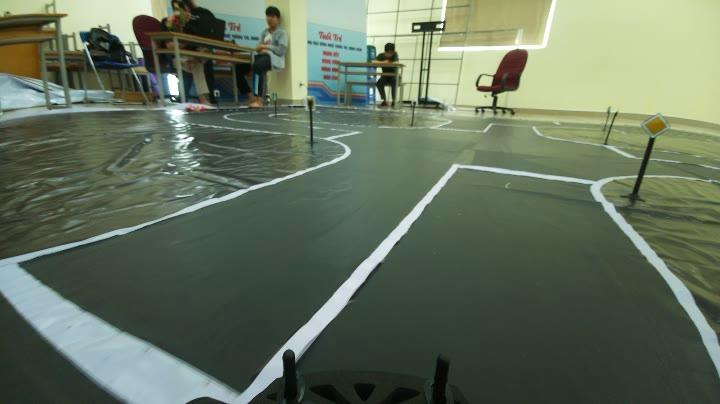priority: (636, 109, 671, 140)
